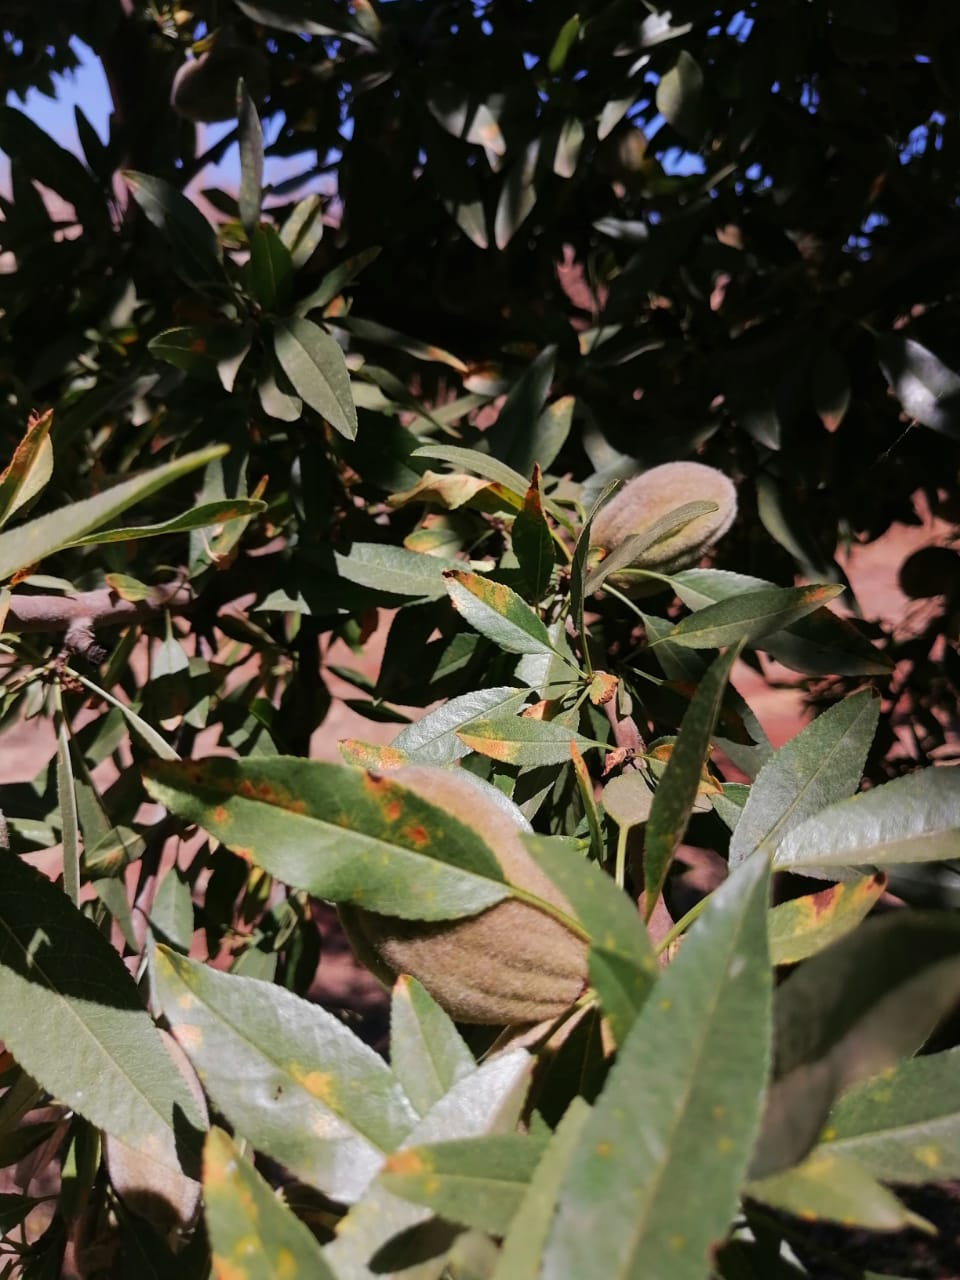polystigma: (145, 937, 415, 1204), (132, 752, 517, 923), (663, 569, 846, 652), (436, 564, 561, 660), (455, 711, 599, 769)
